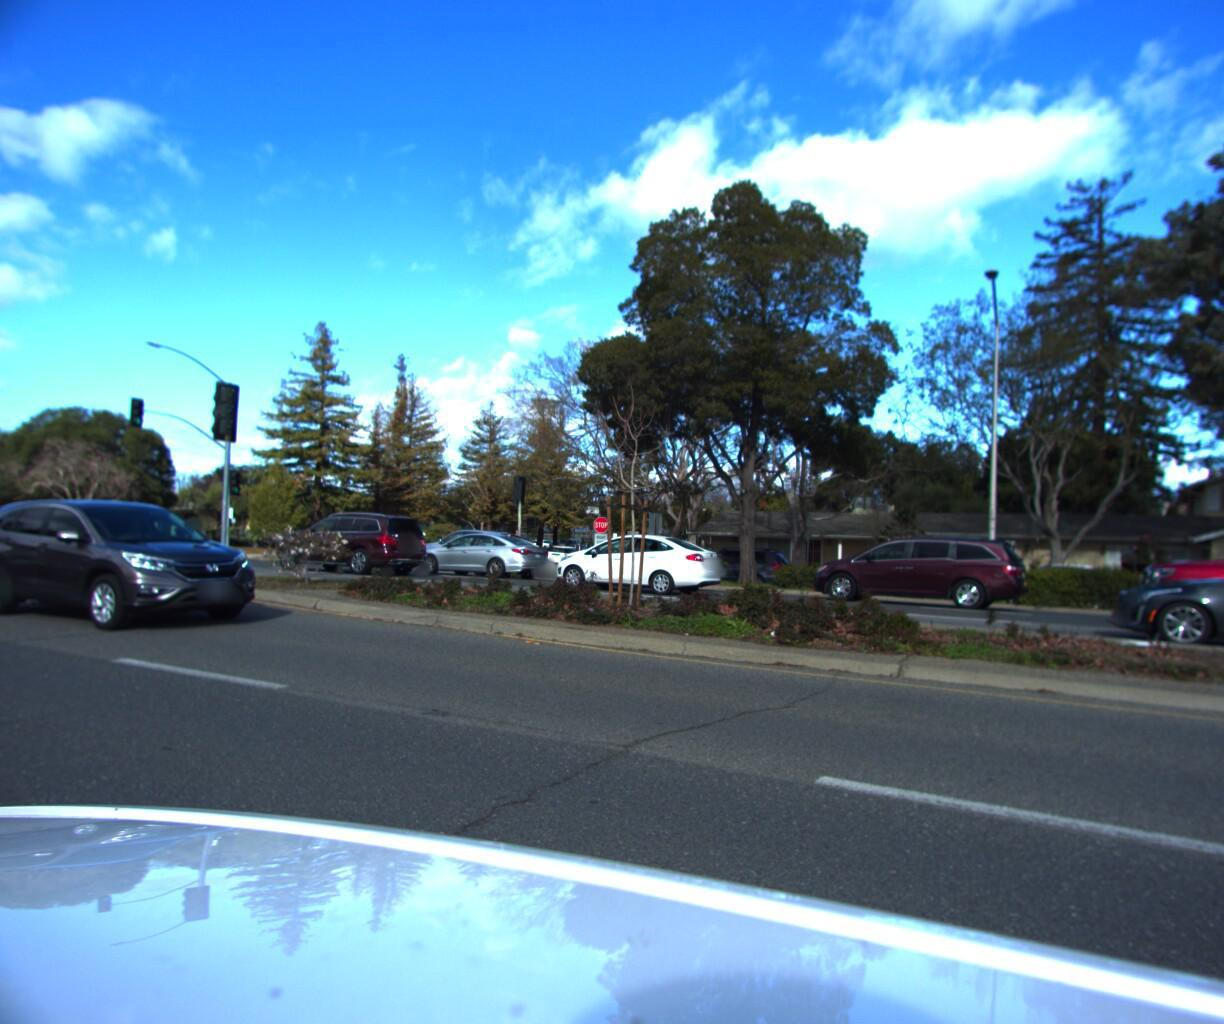car: (0, 489, 283, 642), (806, 528, 1033, 611), (1114, 524, 1224, 686), (540, 526, 731, 599), (264, 513, 428, 581), (1148, 518, 1224, 656), (411, 531, 557, 584), (663, 547, 794, 597), (407, 529, 537, 578), (542, 544, 589, 571)
